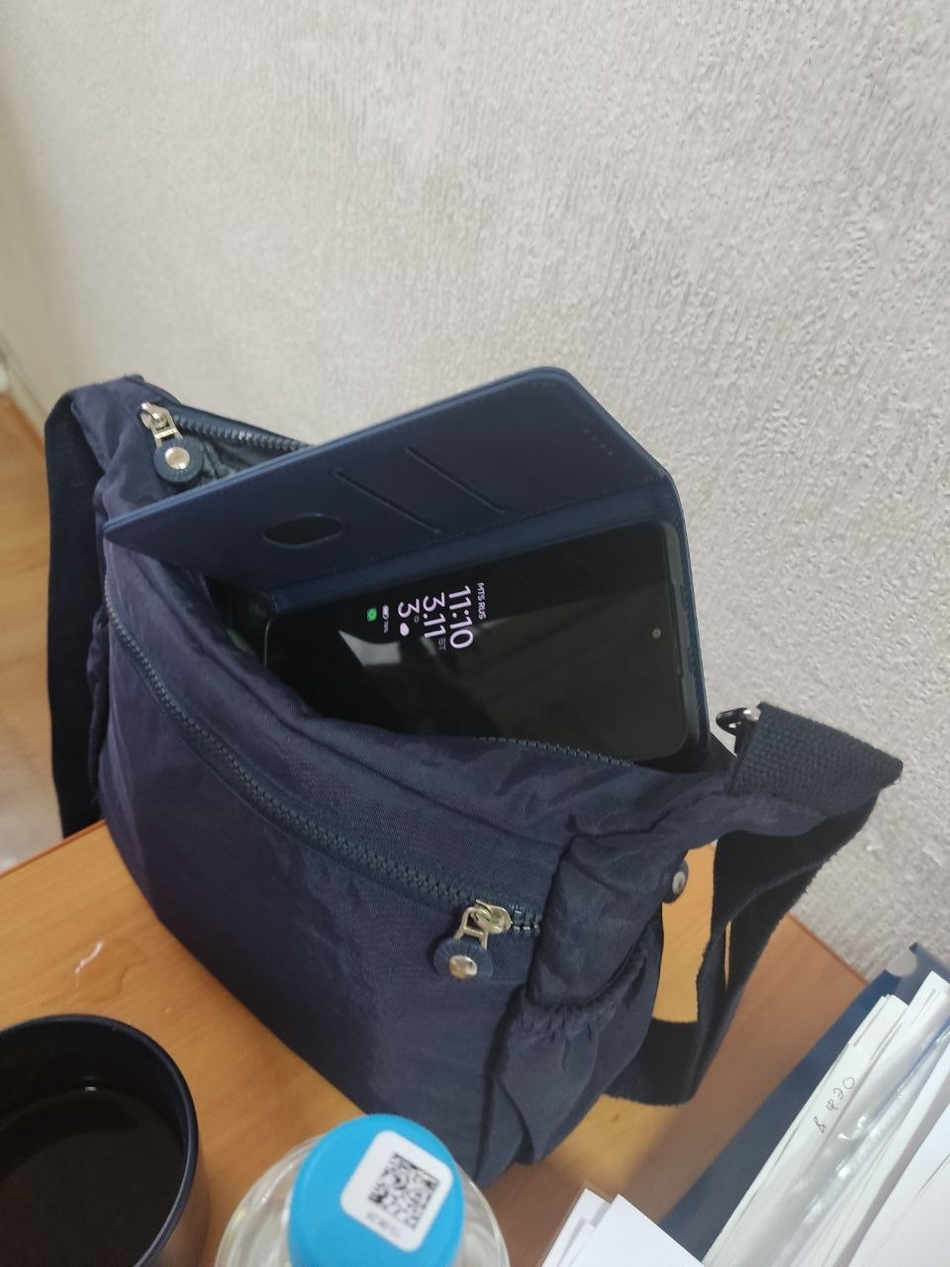cell phone: (267, 518, 693, 770)
